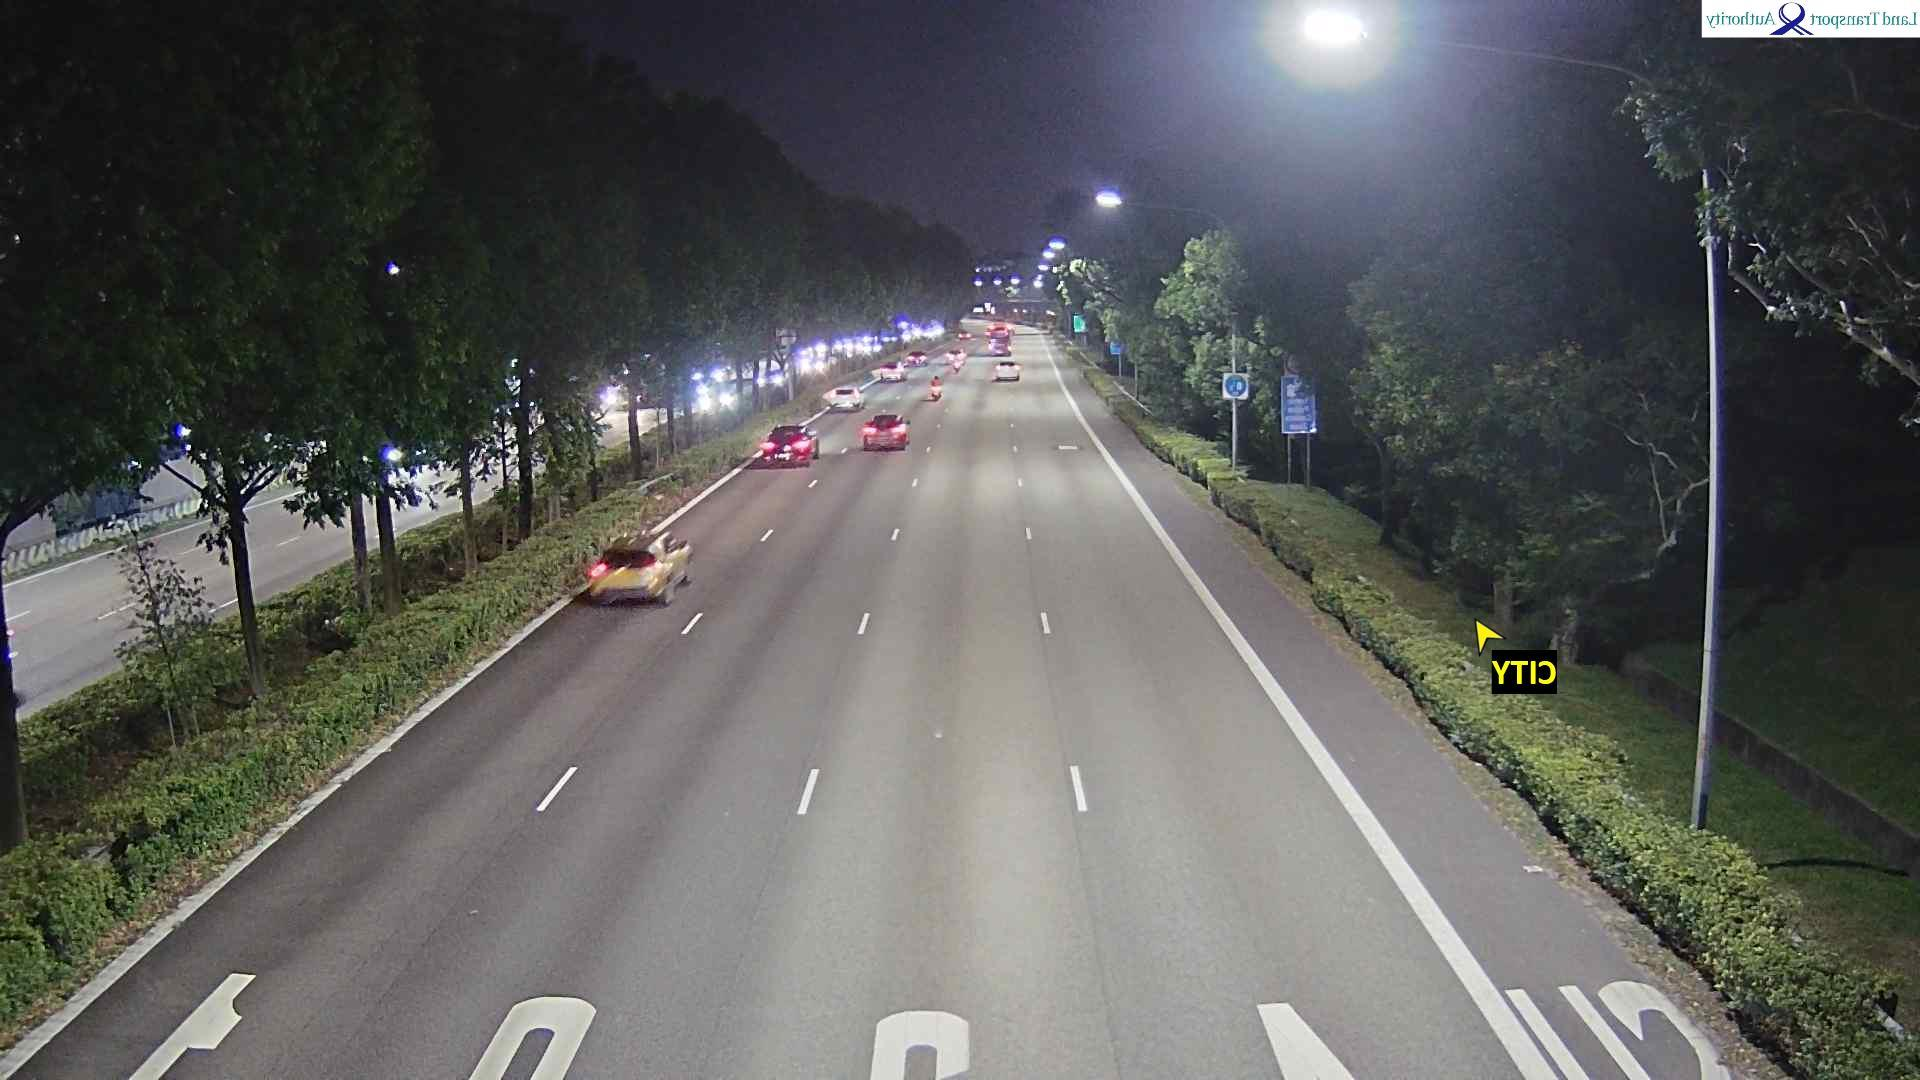cars: (585, 531, 695, 606), (760, 422, 821, 465), (861, 411, 912, 450), (823, 384, 867, 410), (993, 359, 1023, 381), (877, 361, 908, 382), (946, 348, 968, 371), (988, 335, 1012, 354), (905, 350, 929, 367), (958, 328, 974, 339)
motorcycle: (930, 374, 944, 400)
